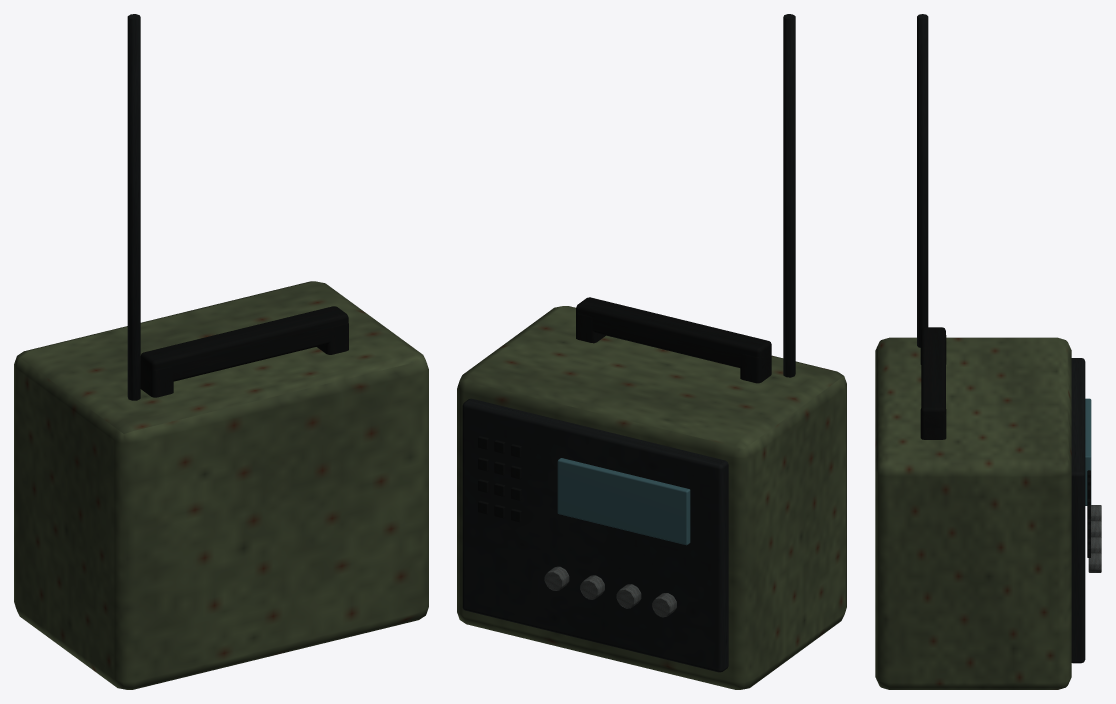
File: radio.glb
The picture shows the model from 3 angles, left to right: view 1: azimuth 30°, elevation 25°; view 2: azimuth 150°, elevation 25°; view 3: azimuth 270°, elevation 25°; orthographic projection. The views are drawn at different scales.
Visible parts, largest first — view 1: body_olive, body_rubber, body_darksteel; view 2: body_olive, body_darksteel, body_rubber, body_glass, body_steel; view 3: body_olive, body_darksteel, body_rubber, body_steel, body_glass.
Part boxes in pixels (x1,y1,x2,y2): body_olive: [14, 281, 428, 689]; body_rubber: [140, 306, 348, 397]; body_darksteel: [127, 14, 140, 400]; body_olive: [457, 306, 846, 689]; body_darksteel: [462, 14, 795, 672]; body_rubber: [478, 297, 771, 522]; body_glass: [557, 458, 690, 545]; body_steel: [544, 566, 676, 617]; body_olive: [875, 337, 1071, 689]; body_darksteel: [917, 14, 1085, 663]; body_rubber: [920, 327, 1090, 557]; body_steel: [1088, 505, 1101, 572]; body_glass: [1085, 398, 1091, 505].
Bounding box in the file's own units: 0.43 × 0.855 × 0.311.
5 materials, 4 textured.
